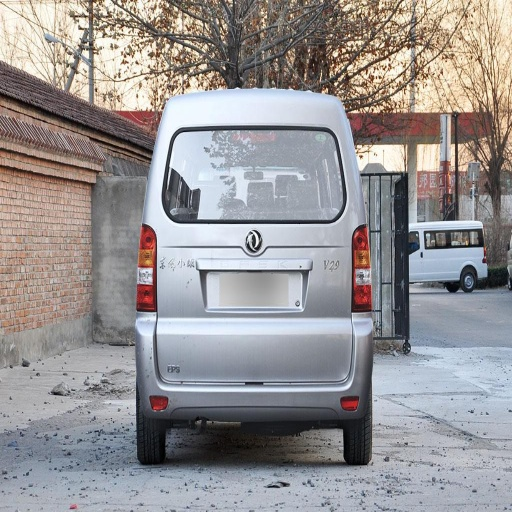back_bumper: (137, 315, 372, 418)
trunk: (155, 214, 371, 379)
